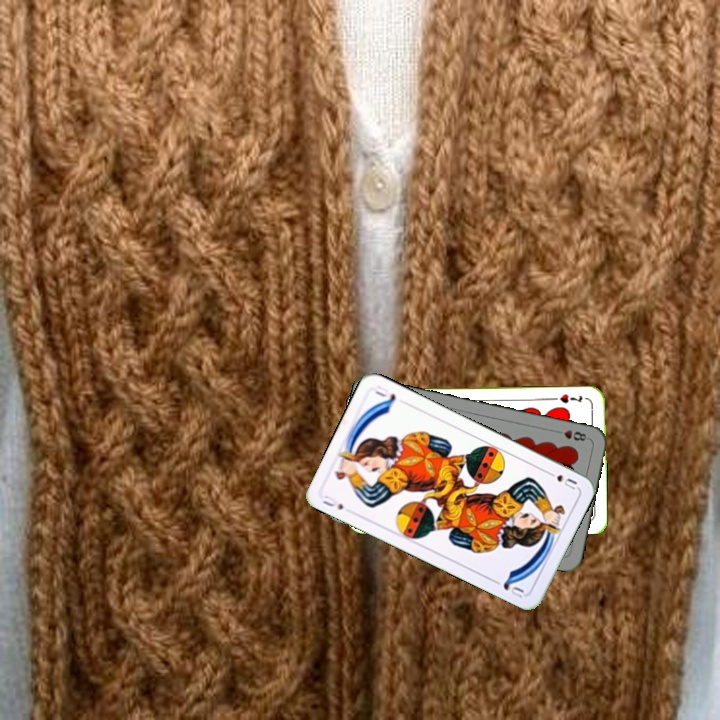H7: (550, 390, 585, 406)
H8: (551, 426, 591, 444)
SU: (542, 467, 580, 493), (318, 491, 346, 513)
